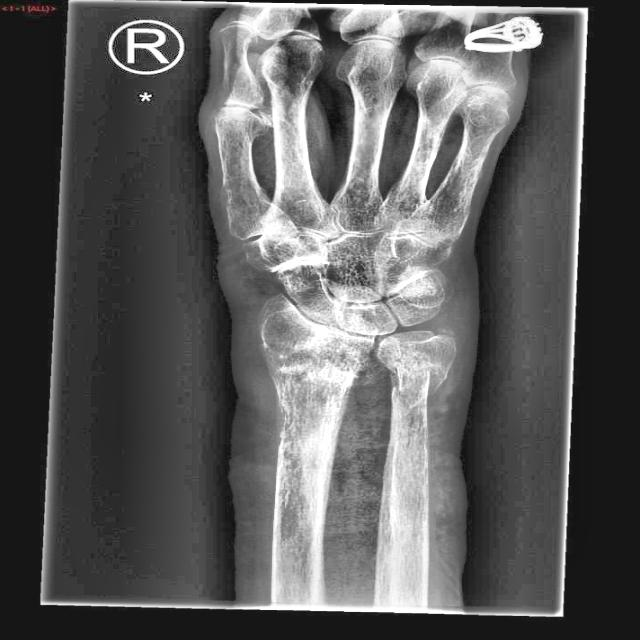fracture: (387, 359, 444, 406)
